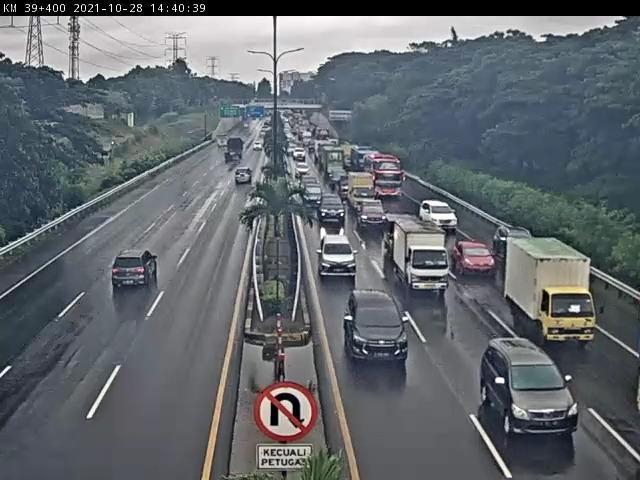bus: (366, 156, 406, 199)
car: (483, 336, 584, 439), (344, 289, 411, 366), (112, 249, 163, 289), (497, 221, 539, 261), (315, 238, 356, 277), (453, 242, 498, 276), (421, 201, 462, 234), (316, 190, 346, 224), (359, 201, 388, 231), (235, 167, 255, 187)
truck: (507, 237, 599, 345), (396, 222, 456, 293), (349, 173, 377, 215)
